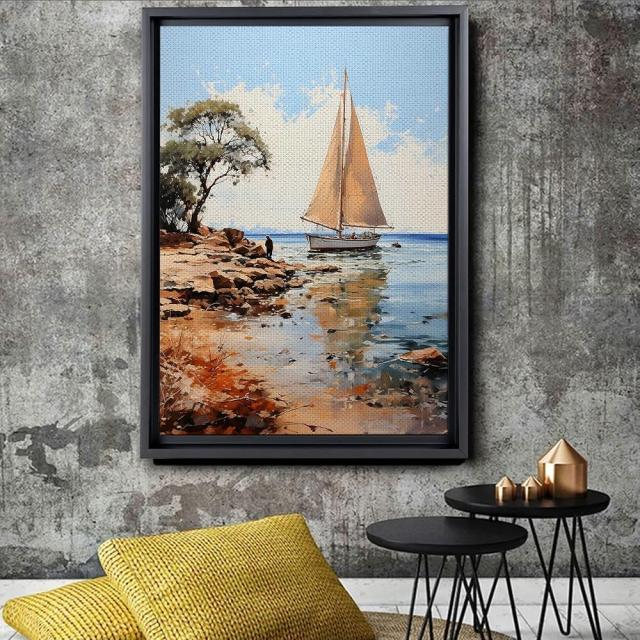painting: (142, 8, 467, 456)
